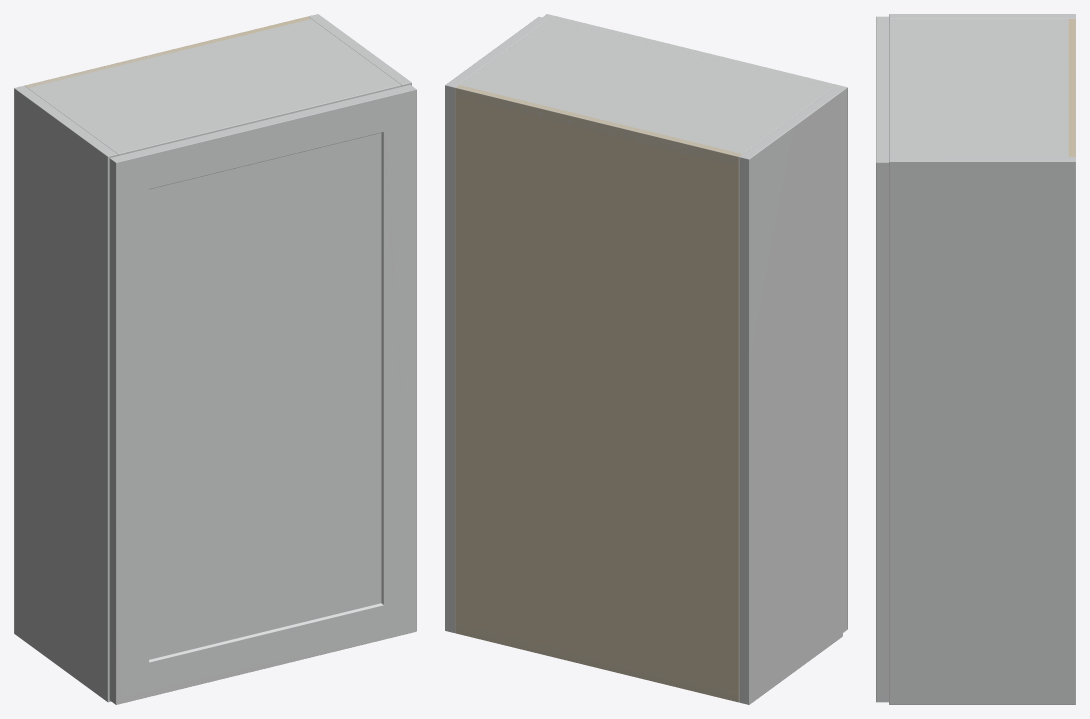
The model's file is PLY-WSS-W1236.glb.
3 views of the same model, side by side, from view 1: azimuth 30°, elevation 25°; view 2: azimuth 150°, elevation 25°; view 3: azimuth 270°, elevation 25° (orthographic).
Parts seen in each view (by area): view 1: Shaker door, Carcass left, Carcass top, Carcass back, Carcass right; view 2: Carcass back, Carcass left, Carcass top, Carcass right, Shaker door, Carcass bottom; view 3: Carcass right, Carcass top, Shaker door, Carcass back, Carcass left.
Part boxes in pixels (bbox=[...]): Shaker door: bbox=[109, 85, 416, 704]; Carcass left: bbox=[14, 86, 117, 702]; Carcass top: bbox=[25, 19, 401, 155]; Carcass back: bbox=[25, 16, 310, 87]; Carcass right: bbox=[308, 14, 411, 86]; Carcass back: bbox=[455, 85, 742, 702]; Carcass left: bbox=[739, 88, 842, 704]; Carcass top: bbox=[455, 19, 832, 166]; Carcass right: bbox=[445, 16, 548, 632]; Shaker door: bbox=[542, 14, 847, 632]; Carcass bottom: bbox=[455, 623, 739, 701]; Carcass right: bbox=[889, 157, 1075, 704]; Carcass top: bbox=[889, 19, 1075, 156]; Shaker door: bbox=[876, 16, 888, 702]; Carcass back: bbox=[1068, 19, 1075, 156]; Carcass left: bbox=[889, 14, 1075, 18].
Bounding box in the file's own units: 0.5334 × 0.9144 × 0.3048.
